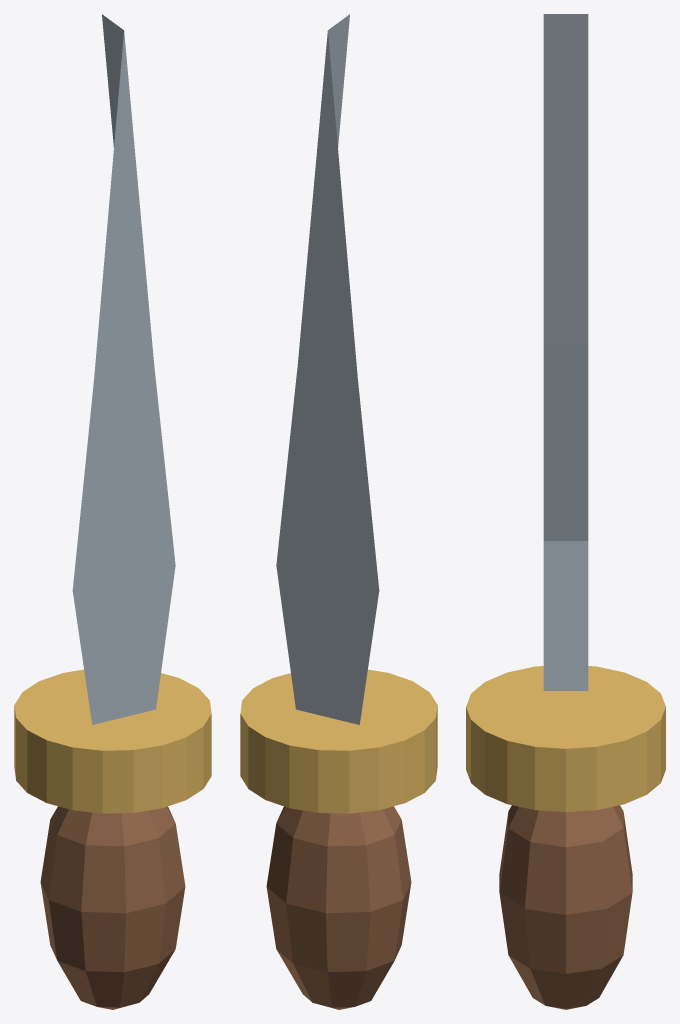
File: bichwa.glb
3 views of the same model, side by side, from view 1: azimuth 30°, elevation 25°; view 2: azimuth 150°, elevation 25°; view 3: azimuth 270°, elevation 25° (orthographic).
Parts seen in each view (by area): view 1: Bichwa; view 2: Bichwa; view 3: Bichwa.
Part boxes in pixels (x1,y1,x2,y2): Bichwa: [14, 14, 211, 1009]; Bichwa: [240, 14, 437, 1009]; Bichwa: [466, 14, 665, 1009].
Bounding box in the file's own units: 0.2 × 1.1 × 0.2.
